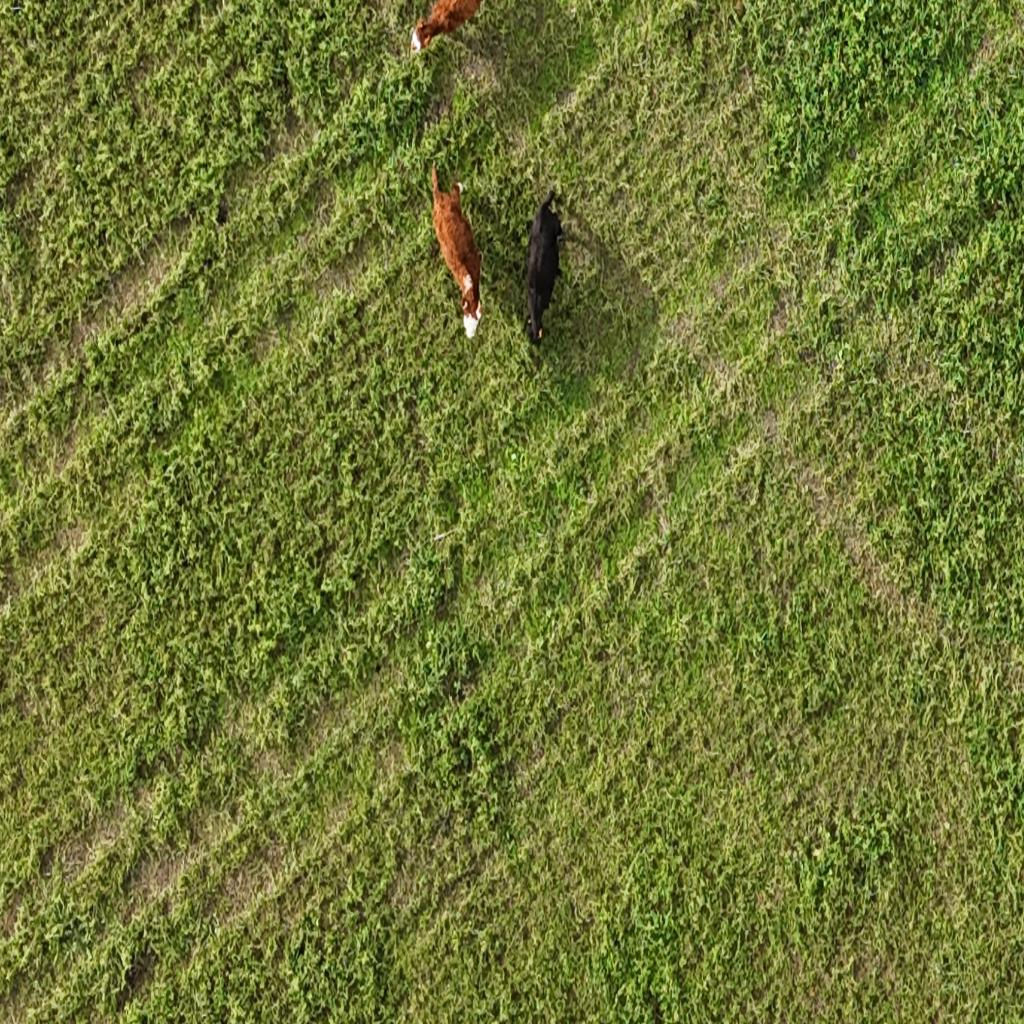cow: (431, 162, 486, 339), (521, 190, 566, 350), (408, 0, 487, 60)
